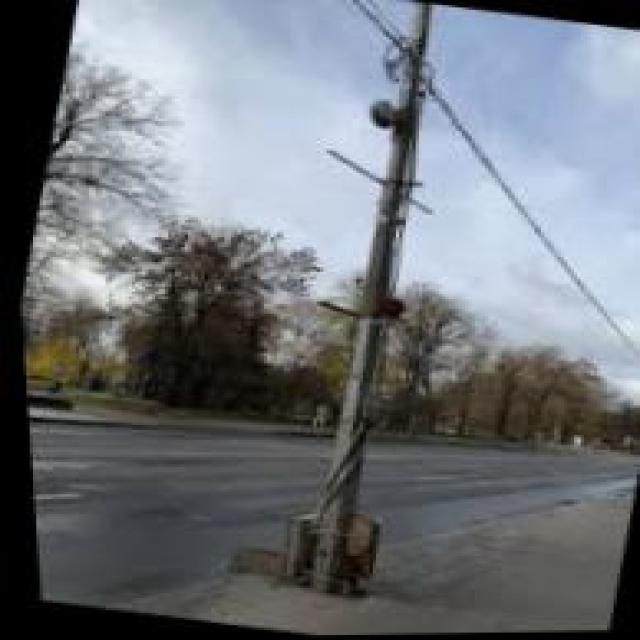pole: (290, 154, 410, 598)
